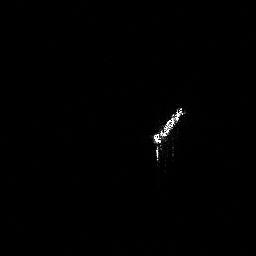ship: (148, 102, 188, 167)
